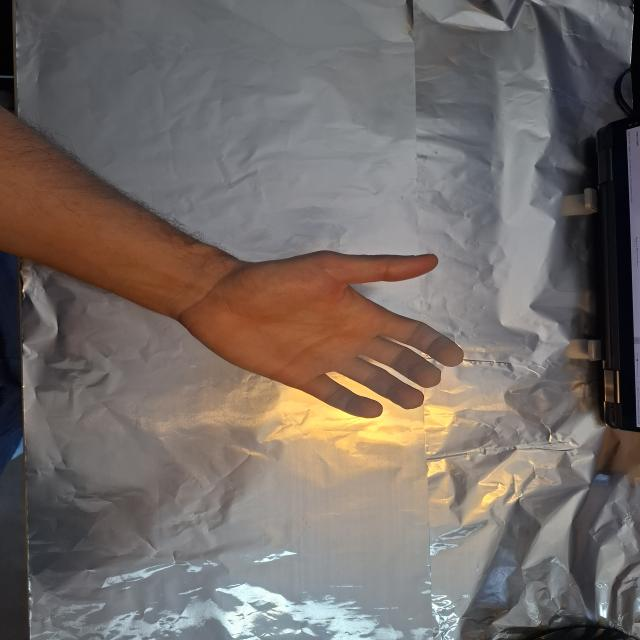glove_off: (174, 248, 467, 420)
